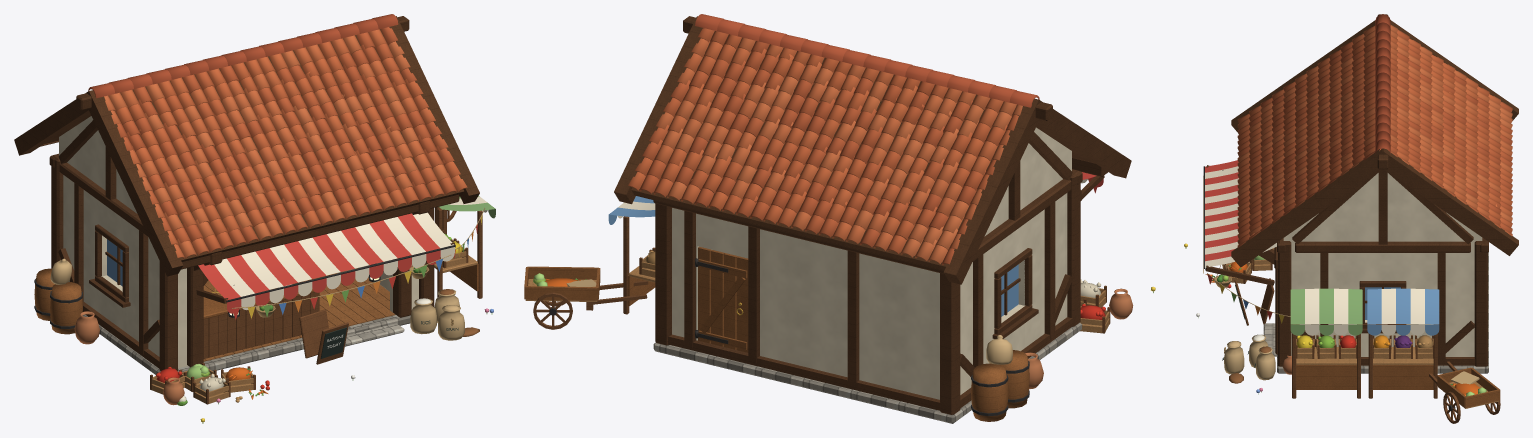
File: ration_shop.glb
3 views of the same model, side by side, from view 1: azimuth 30°, elevation 25°; view 2: azimuth 150°, elevation 25°; view 3: azimuth 270°, elevation 25° (orthographic). The views are drawn at different scales.
Visible parts, largest first — view 1: RATION_Roof, RATION_ExteriorStatic, RATION_Counter, RATION_Sign, RATION_ProduceCrate_04, RATION_GrainBag, RATION_RiceBag, RATION_ProduceCrate_02, RATION_ProduceCrate_03, RATION_ProduceCrate_01; view 2: RATION_Roof, RATION_ExteriorStatic, RATION_Door_Back, RATION_ProduceCrate_03; view 3: RATION_ExteriorStatic, RATION_Roof, RATION_GrainBag, RATION_LentilBag, RATION_Sign, RATION_RiceBag.
Part boxes in pixels (x1,y1,x2,y2): RATION_Roof: (14,14,479,276); RATION_ExteriorStatic: (34,116,495,423); RATION_Counter: (203,279,319,358); RATION_Sign: (299,309,348,364); RATION_ProduceCrate_04: (193,373,230,404); RATION_GrainBag: (438,305,464,340); RATION_RiceBag: (410,298,436,334); RATION_ProduceCrate_02: (221,366,255,392); RATION_ProduceCrate_03: (150,367,186,394); RATION_ProduceCrate_01: (179,362,216,391); RATION_Roof: (614,14,1131,284); RATION_ExteriorStatic: (524,127,1155,423); RATION_Door_Back: (695,246,748,352); RATION_ProduceCrate_03: (1080,304,1110,333); RATION_ExteriorStatic: (1184,160,1500,423); RATION_Roof: (1231,14,1518,267); RATION_GrainBag: (1222,341,1244,374); RATION_LentilBag: (1254,346,1275,380); RATION_Sign: (1234,278,1274,325); RATION_RiceBag: (1247,334,1268,367).
Size of the model in its own units: 9.98 by 5.78 by 7.42.
Materials: 7 (3 with a texture image).
